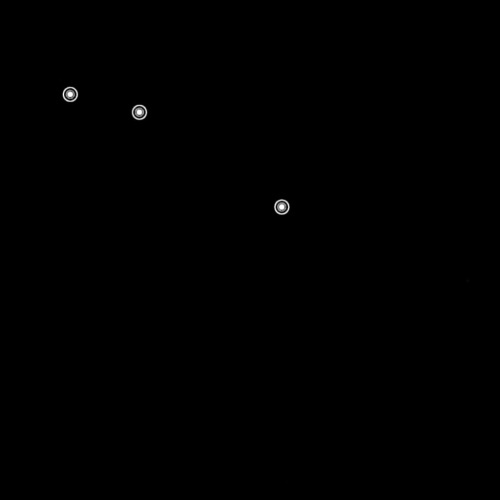vulpecula: (59, 81, 297, 222)
